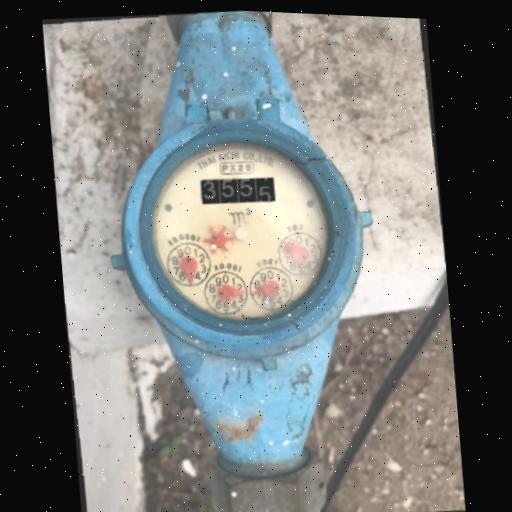3: (200, 179, 220, 204)
5: (256, 177, 276, 202), (220, 179, 239, 204), (238, 178, 257, 203)
border_water_meter_number: (200, 173, 276, 208)
